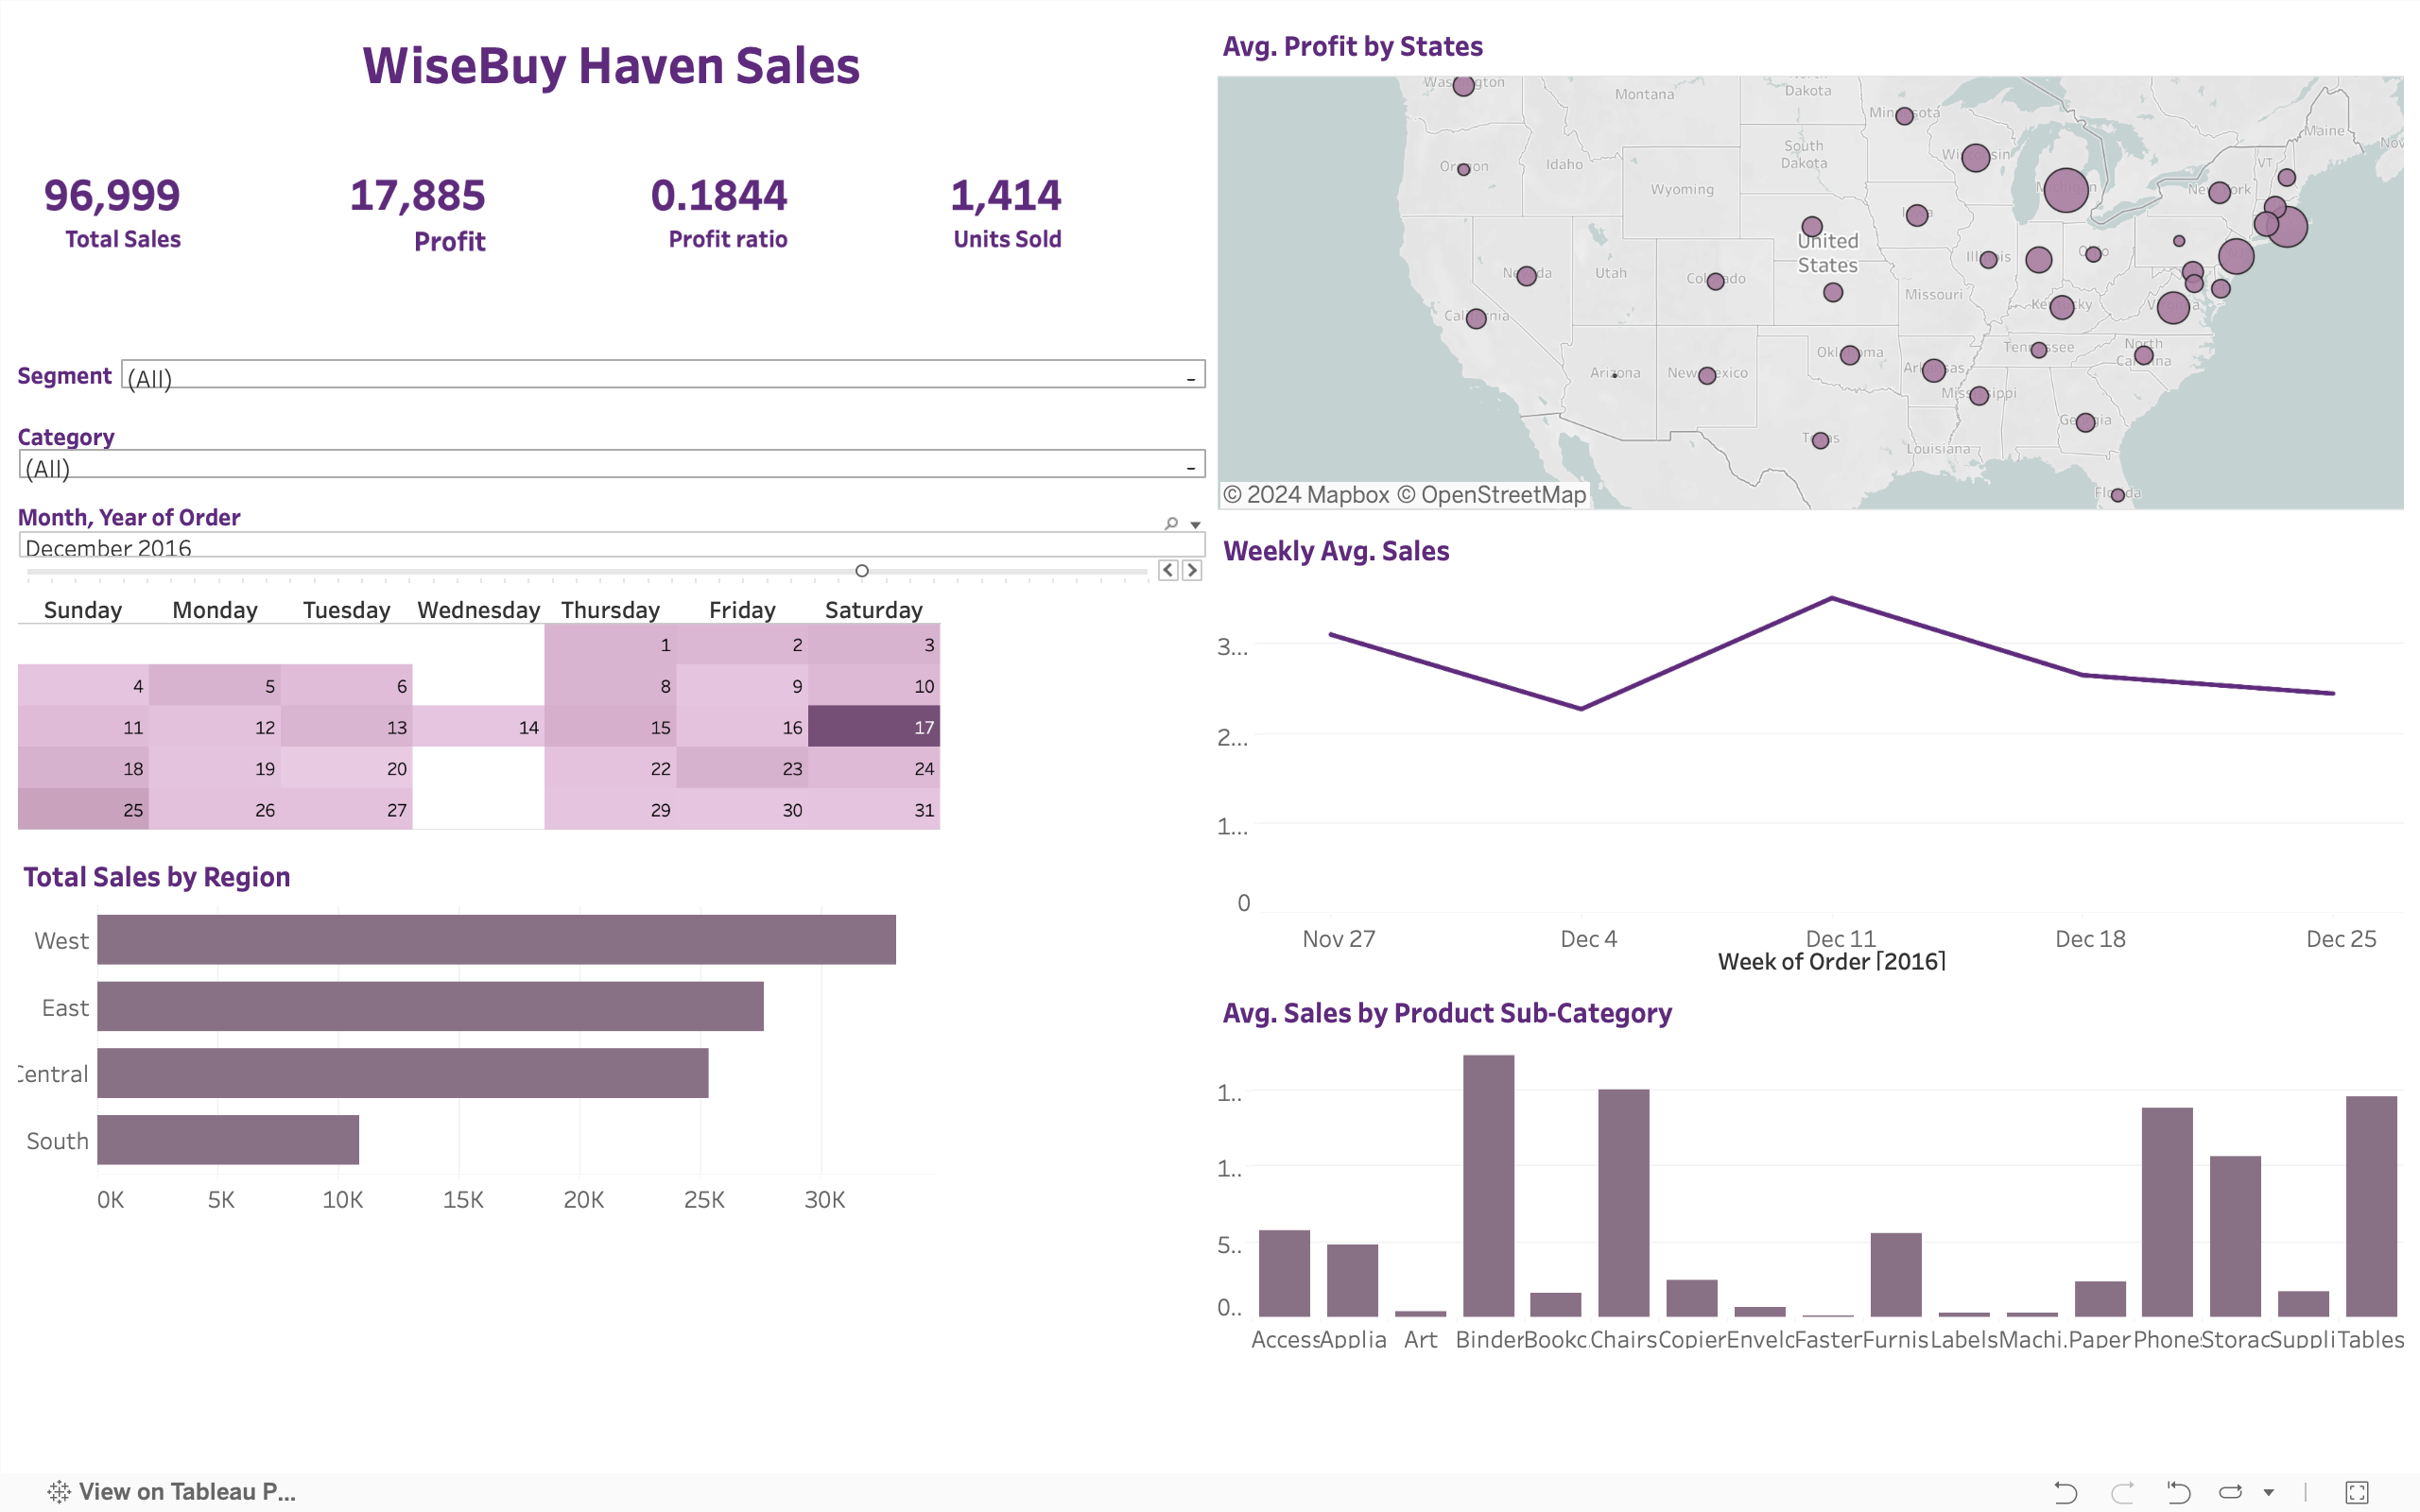

Layout of this report page (visuals, bound fields, positions):
{"tool":"tableau","page":{"name":"WiseBuy Haven","canvas":[1000,1000],"units":"permille","ordinal":0},"visuals":[{"type":"text","box":[5.9,10.4,494.1,92.5]},{"type":"worksheet","title":"Profit by State","mark":"Automatic","box":[500,10.4,494.1,341.1]},{"type":"worksheet","title":"Sales","mark":"Automatic","box":[5.9,102.9,123.5,138]},{"type":"worksheet","title":"profit","mark":"Automatic","box":[129.4,102.9,123.5,138]},{"type":"worksheet","title":"Profit ratio","mark":"Automatic","box":[252.9,102.9,123.5,138]},{"type":"worksheet","title":"Units sold","mark":"Automatic","box":[376.4,102.9,123.5,138]},{"type":"filter","title":"Calendar","param":"[federated.11smdk00ptz5ac15hodak06qk70l].[none:Segment:nk]","box":[5.9,240.9,494.1,41.7]},{"type":"filter","title":"Calendar","param":"[federated.11smdk00ptz5ac15hodak06qk70l].[none:Category:nk]","box":[5.9,282.6,494.1,54.7]},{"type":"filter","title":"Calendar","param":"[federated.11smdk00ptz5ac15hodak06qk70l].[my:Order Date:ok]","box":[5.9,337.2,494.1,62.5]},{"type":"worksheet","title":"Weekly Avg. Sales","mark":"Line","rows":["Sales"],"cols":["Order Date"],"box":[500,351.6,494.1,311.6]},{"type":"worksheet","title":"Calendar","mark":"Square","rows":["Order Date"],"cols":["Order Date"],"box":[5.9,399.7,494.1,233.1]},{"type":"worksheet","title":"Total Sales by Region","mark":"Automatic","rows":["Region"],"cols":["Sales"],"box":[5.9,632.8,494.1,356.8]},{"type":"worksheet","title":"Avg. Sales by Product Sub-Category","mark":"Automatic","rows":["Sales"],"cols":["Sub-Category"],"box":[500,663.2,494.1,326.4]}]}

Visuals, with their boxes on the dashboard's canvas, which has no fixed pixel size, in thousandths of its width and height (x1, y1, x2, y2). These are canvas units, not pixel positions in the 2420x1512 screenshot, which may show the page scaled, cropped or inside an application window:
text: [6,10,500,103]
"Profit by State" worksheet: [500,10,994,352]
"Sales" worksheet: [6,103,129,241]
"profit" worksheet: [129,103,253,241]
"Profit ratio" worksheet: [253,103,376,241]
"Units sold" worksheet: [376,103,500,241]
"Calendar" filter: [6,241,500,283]
"Calendar" filter: [6,283,500,337]
"Calendar" filter: [6,337,500,400]
"Weekly Avg. Sales" worksheet (Line marks): [500,352,994,663]
"Calendar" worksheet (Square marks): [6,400,500,633]
"Total Sales by Region" worksheet: [6,633,500,990]
"Avg. Sales by Product Sub-Category" worksheet: [500,663,994,990]
